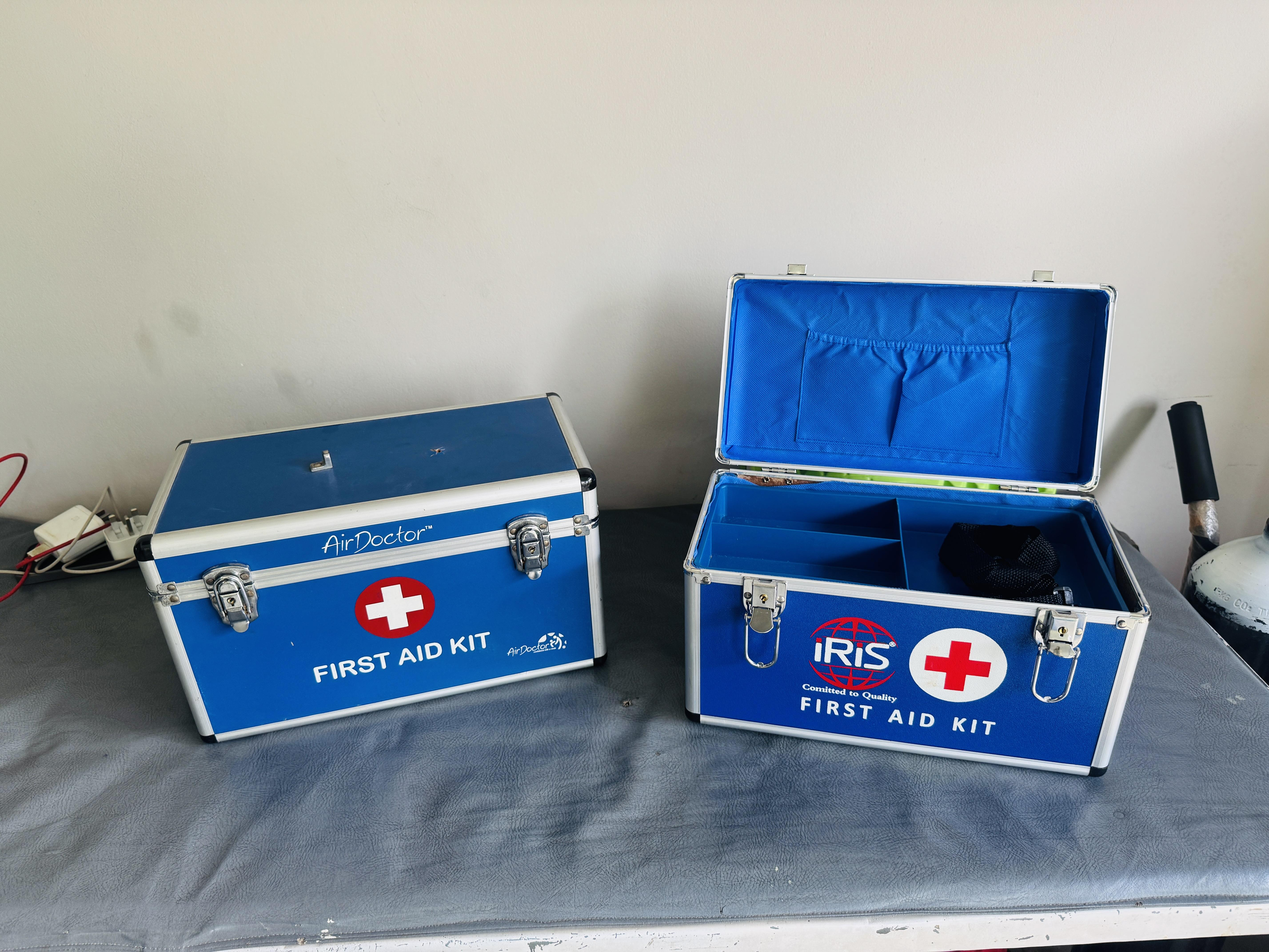FirstAidBox: (671, 250, 1164, 793), (117, 379, 635, 753)
